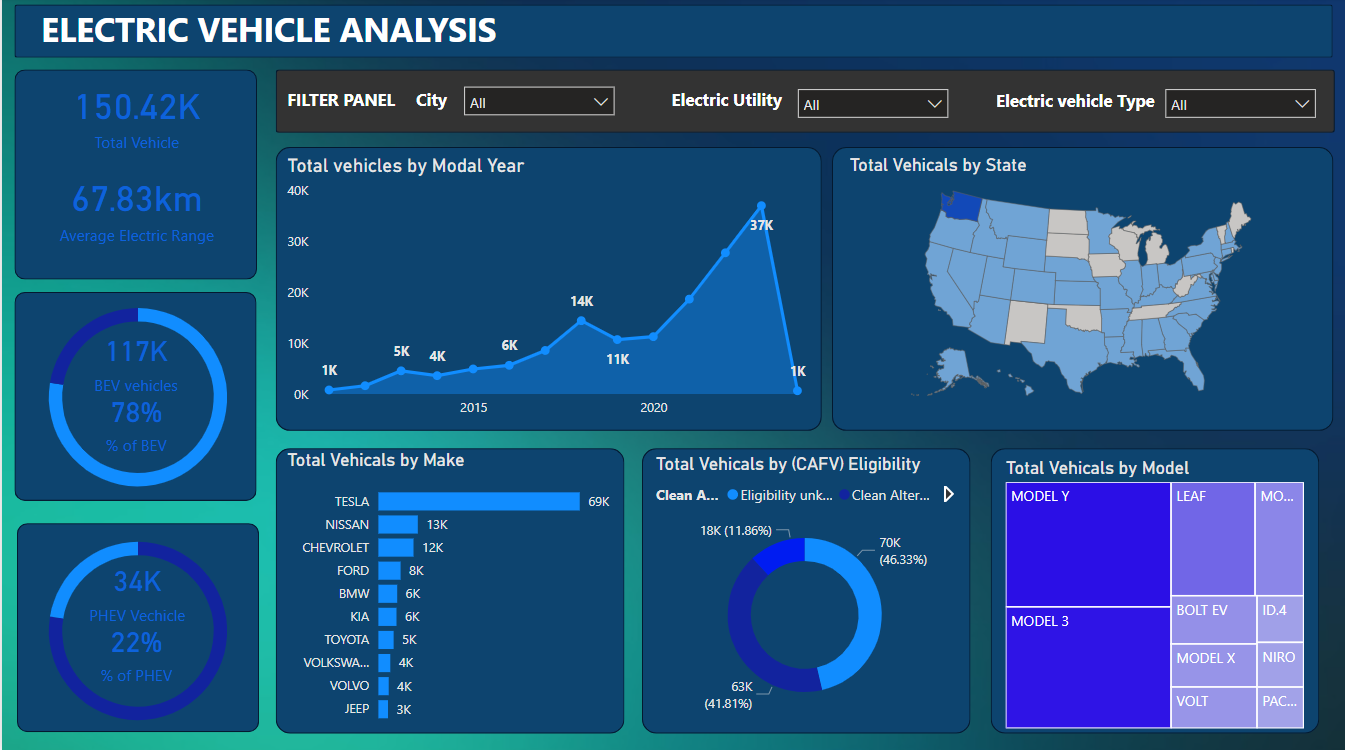

The page's visual inventory and layout, read from the dashboard file:
{"tool":"powerbi","page":{"name":"Page 1","canvas":[1280,720],"ordinal":0},"visuals":[{"type":"shape","box":[12.3,6.9,1255.6,50.8],"z":0},{"type":"textbox","box":[31.6,4.1,454.2,72.7],"z":1000},{"type":"shape","box":[11.9,69,231,200],"z":2000},{"type":"card","title":"Total Vehicals","fields":{"Values":["Electric_Vehicle_Population_Data.Total Vehicals"]},"box":[31.6,54.9,193.5,113.9],"z":3000},{"type":"card","title":"Total Vehicals","fields":{"Values":["Electric_Vehicle_Population_Data.Average value"]},"box":[23.3,142.7,209.9,113.9],"z":4000},{"type":"shape","box":[12.3,281.3,230.5,199],"z":5000},{"type":"shape","box":[13.7,500.9,230.5,199],"z":6000},{"type":"donutChart","fields":{"Category":["Electric_Vehicle_Population_Data.Electric Vehicle Type"],"Y":["Electric_Vehicle_Population_Data.Total Vehicals"]},"box":[0,270.3,259.3,222.3],"z":7000},{"type":"card","title":"Total Vehicals","fields":{"Values":["Electric_Vehicle_Population_Data.BEV vehicals"]},"box":[64.5,310.1,127.6,71.4],"z":8000},{"type":"card","title":"Total Vehicals","fields":{"Values":["Electric_Vehicle_Population_Data.% of BEV"]},"box":[71.4,369.1,113.9,70],"z":9000},{"type":"donutChart","fields":{"Category":["Electric_Vehicle_Population_Data.Electric Vehicle Type"],"Y":["Electric_Vehicle_Population_Data.Total Vehicals"]},"box":[0,492.6,259.3,222.3],"z":10000},{"type":"card","title":"Total Vehicals","fields":{"Values":["Electric_Vehicle_Population_Data.PHEV Vechicle"]},"box":[65.9,529.7,127.6,71.4],"z":11000},{"type":"card","title":"Total Vehicals","fields":{"Values":["Electric_Vehicle_Population_Data.% of PHEV"]},"box":[71.4,588.7,113.9,70],"z":12000},{"type":"shape","box":[260.7,68.6,1008.6,60.4],"z":13000},{"type":"shape","box":[260.7,142.7,520.1,270.3],"z":14000},{"type":"areaChart","title":"Total vehicles by Modal Year","fields":{"Category":["Electric_Vehicle_Population_Data.Model Year"],"Y":["Electric_Vehicle_Population_Data.Total Vehicals"]},"box":[266.2,149.6,509.1,259.3],"z":15000},{"type":"shape","box":[790.4,142.7,477.5,270.3],"z":16000},{"type":"shapeMap","fields":{"Category":["Electric_Vehicle_Population_Data.State"],"Value":["Electric_Vehicle_Population_Data.Total Vehicals"]},"box":[802.7,149.6,451.5,245.6],"z":17000},{"type":"shape","box":[260.7,429.5,332.1,271.7],"z":18000},{"type":"clusteredBarChart","fields":{"Category":["Electric_Vehicle_Population_Data.Make"],"Y":["Electric_Vehicle_Population_Data.Total Vehicals"]},"box":[266.2,430.9,317,270.3],"z":19000},{"type":"shape","box":[609.3,429.5,312.9,271.7],"z":20000},{"type":"donutChart","title":"Total Vehicals by  (CAFV) Eligibility","fields":{"Category":["Electric_Vehicle_Population_Data.Clean Alternative Fuel Vehicle (CAFV) Eligibility"],"Y":["Electric_Vehicle_Population_Data.Total Vehicals"]},"box":[617.5,435,293.7,259.3],"z":21000},{"type":"shape","box":[941.3,429.5,312.9,271.7],"z":22000},{"type":"treemap","fields":{"Group":["Electric_Vehicle_Population_Data.Model"],"Values":["Electric_Vehicle_Population_Data.Total Vehicals"]},"box":[950.9,437.7,293.7,263.5],"z":23000},{"type":"textbox","box":[266.2,81,123.5,31.6],"z":24000},{"type":"slicer","fields":{"Values":["Electric_Vehicle_Population_Data.City"]},"box":[429.5,75.5,163.3,42.5],"z":25000},{"type":"textbox","box":[389.7,81,49.4,31.6],"z":26000},{"type":"slicer","fields":{"Values":["Electric_Vehicle_Population_Data.Electric Utility"]},"box":[747.9,76.8,163.3,42.5],"z":27000},{"type":"slicer","fields":{"Values":["Electric_Vehicle_Population_Data.Electric Vehicle Type"]},"box":[1097.8,76.8,163.3,42.5],"z":28000},{"type":"textbox","box":[592.9,81,183.3,38.1],"z":29001},{"type":"textbox","box":[910.7,82.1,213.1,35.7],"z":29002}]}

Visuals, with their boxes in screenshot pixels (x1, y1, x2, y2), scaled from the page's 1280x720 canvas onto the 1345x750 screenshot:
shape: crop(13, 7, 1332, 60)
textbox: crop(33, 4, 510, 80)
shape: crop(13, 72, 255, 280)
"Total Vehicals" card: crop(33, 57, 237, 176)
"Total Vehicals" card: crop(24, 149, 245, 267)
shape: crop(13, 293, 255, 500)
shape: crop(14, 522, 257, 729)
donutChart - Electric_Vehicle_Population_Data.Electric Vehicle Type x Electric_Vehicle_Population_Data.Total Vehicals: crop(0, 282, 272, 513)
"Total Vehicals" card: crop(68, 323, 202, 397)
"Total Vehicals" card: crop(75, 384, 195, 457)
donutChart - Electric_Vehicle_Population_Data.Electric Vehicle Type x Electric_Vehicle_Population_Data.Total Vehicals: crop(0, 513, 272, 745)
"Total Vehicals" card: crop(69, 552, 203, 626)
"Total Vehicals" card: crop(75, 613, 195, 686)
shape: crop(274, 71, 1334, 134)
shape: crop(274, 149, 820, 430)
"Total vehicles by Modal Year" areaChart: crop(280, 156, 815, 426)
shape: crop(831, 149, 1332, 430)
shapeMap - Electric_Vehicle_Population_Data.State x Electric_Vehicle_Population_Data.Total Vehicals: crop(843, 156, 1318, 412)
shape: crop(274, 447, 623, 730)
clusteredBarChart - Electric_Vehicle_Population_Data.Make x Electric_Vehicle_Population_Data.Total Vehicals: crop(280, 449, 613, 730)
shape: crop(640, 447, 969, 730)
"Total Vehicals by  (CAFV) Eligibility" donutChart: crop(649, 453, 957, 723)
shape: crop(989, 447, 1318, 730)
treemap - Electric_Vehicle_Population_Data.Model x Electric_Vehicle_Population_Data.Total Vehicals: crop(999, 456, 1308, 730)
textbox: crop(280, 84, 409, 117)
slicer - Electric_Vehicle_Population_Data.City: crop(451, 79, 623, 123)
textbox: crop(409, 84, 461, 117)
slicer - Electric_Vehicle_Population_Data.Electric Utility: crop(786, 80, 957, 124)
slicer - Electric_Vehicle_Population_Data.Electric Vehicle Type: crop(1154, 80, 1325, 124)
textbox: crop(623, 84, 816, 124)
textbox: crop(957, 86, 1181, 123)
